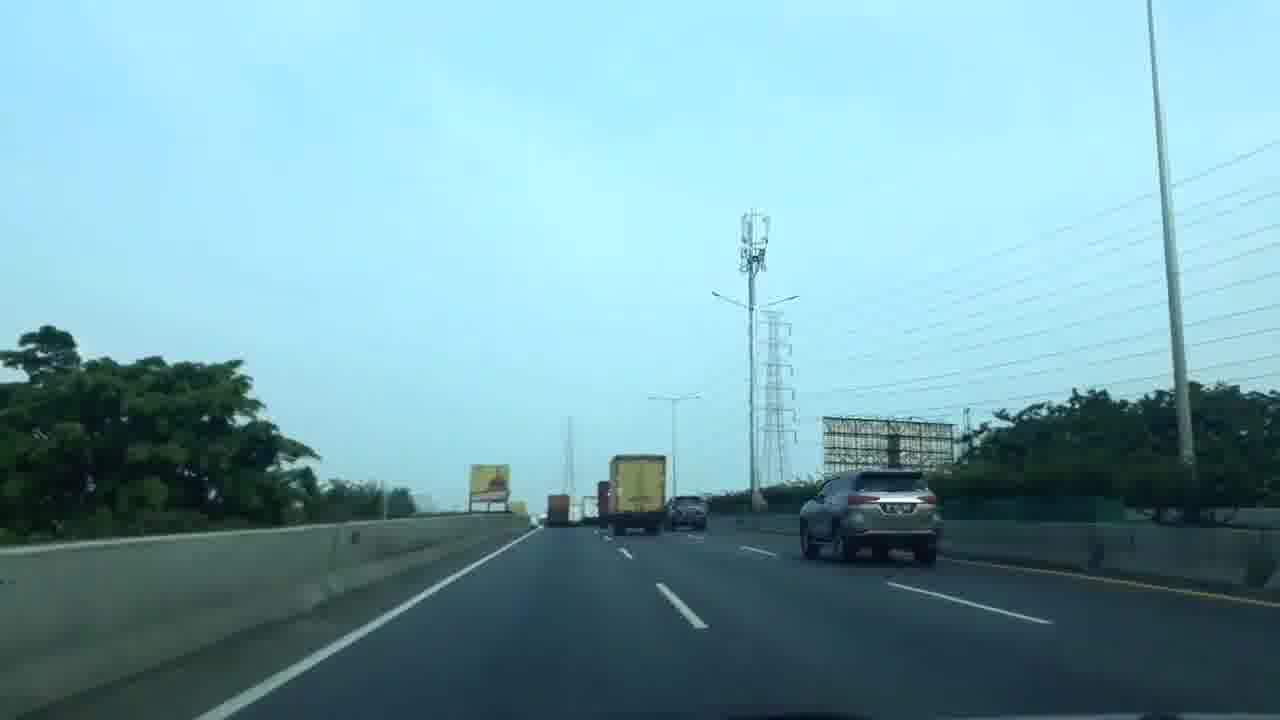plate_positive: (885, 503, 912, 514)
